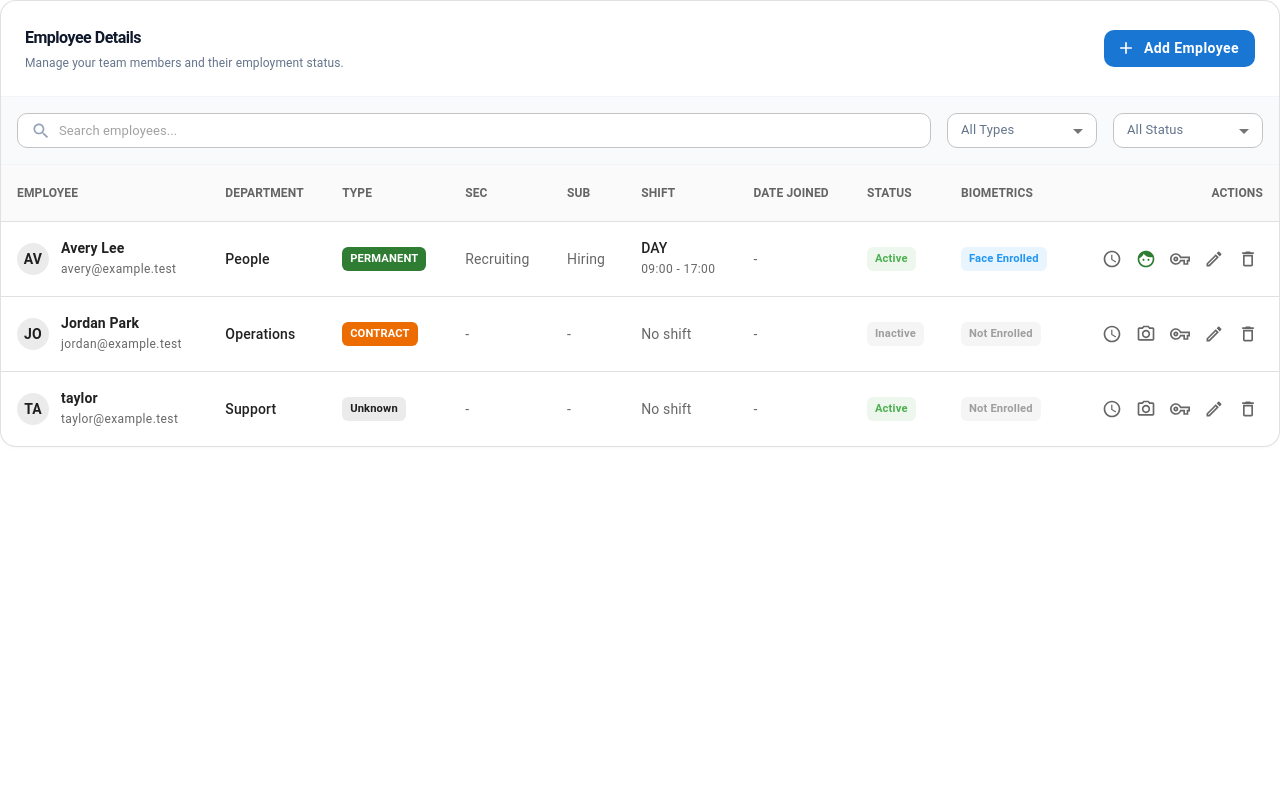
confirms employee deletion, reports success, and refreshes the list
Click the button named "Delete Employee" in the row of "Avery Lee" at coordinates (1248, 259), box x1=1233 y1=244 x2=1263 y2=274
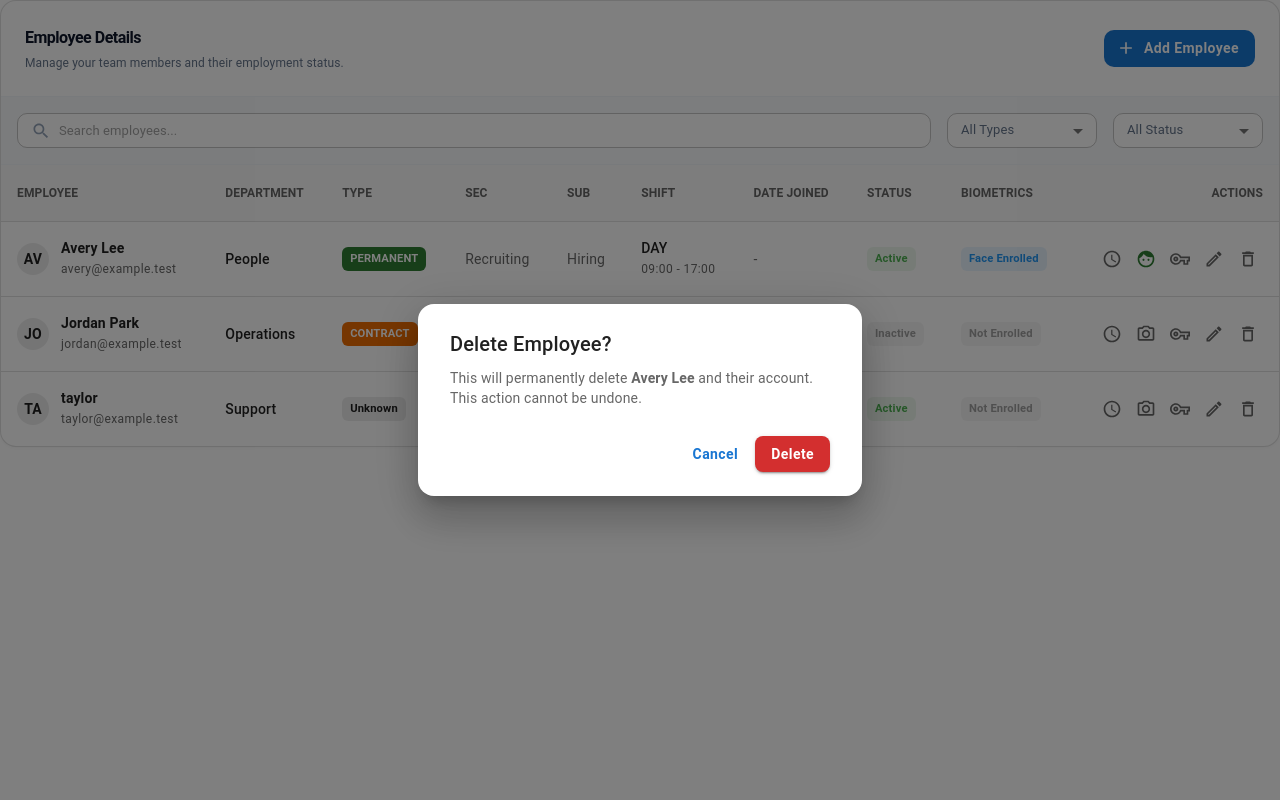
Expected: the heading "Delete Employee?" is shown, x1=450 y1=332 x2=612 y2=356
Expected: the dialog shows "This will permanently delete Avery Lee", x1=418 y1=304 x2=862 y2=496
Click the button "Delete" at coordinates (793, 454), box x1=755 y1=436 x2=830 y2=472
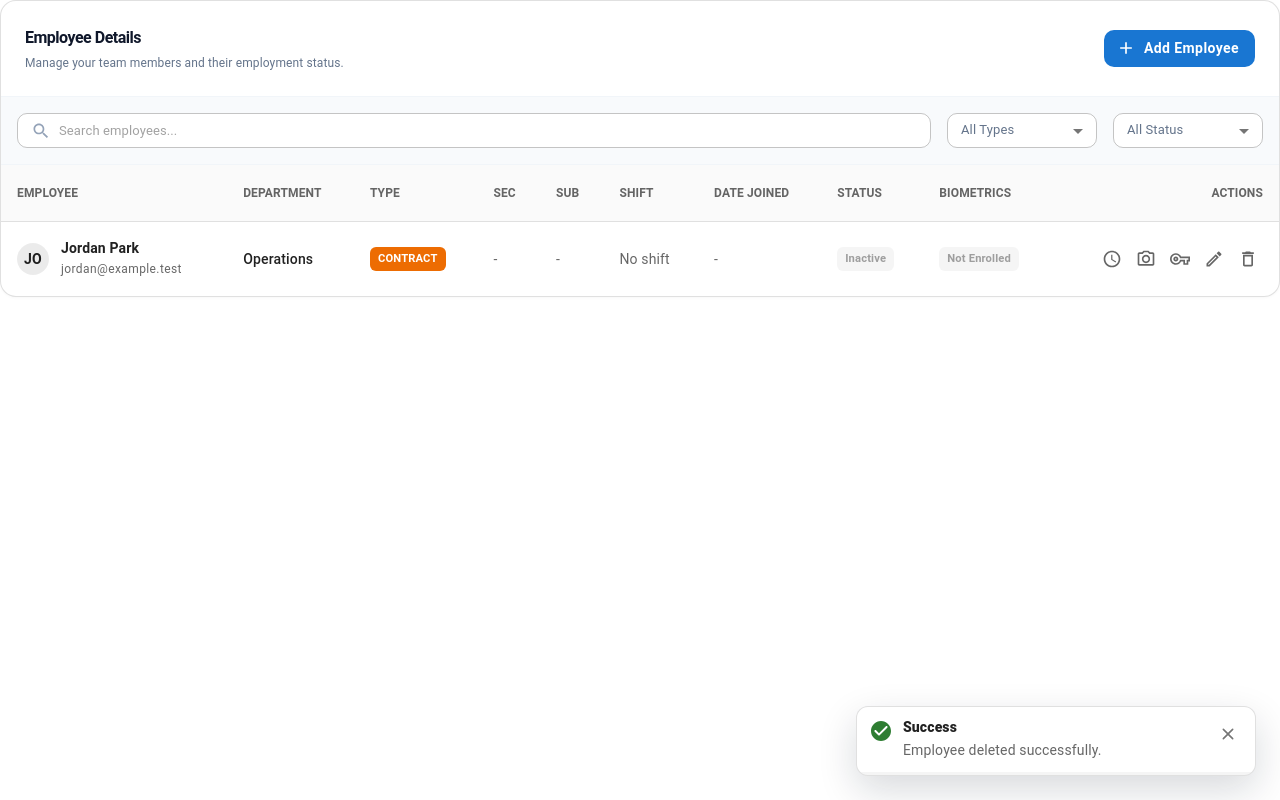
Expected: the text "Avery Lee" is gone
Expected: the text "Employee deleted successfully." is shown, x1=903 y1=742 x2=1102 y2=758
